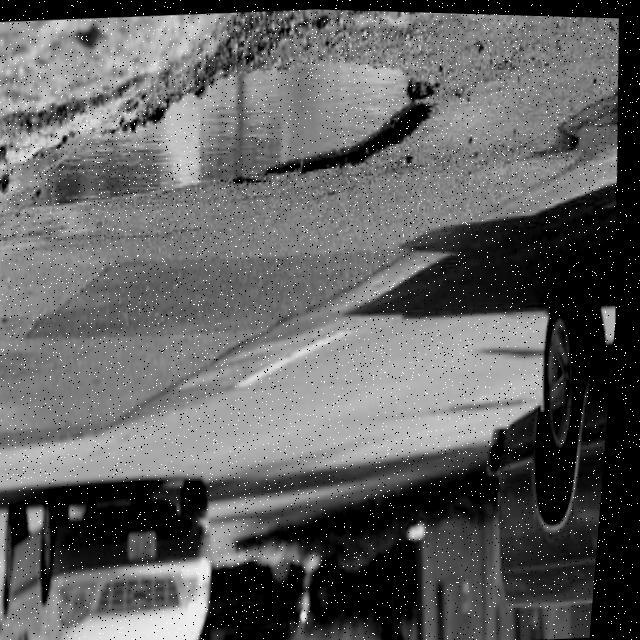pothole: (22, 36, 445, 222)
